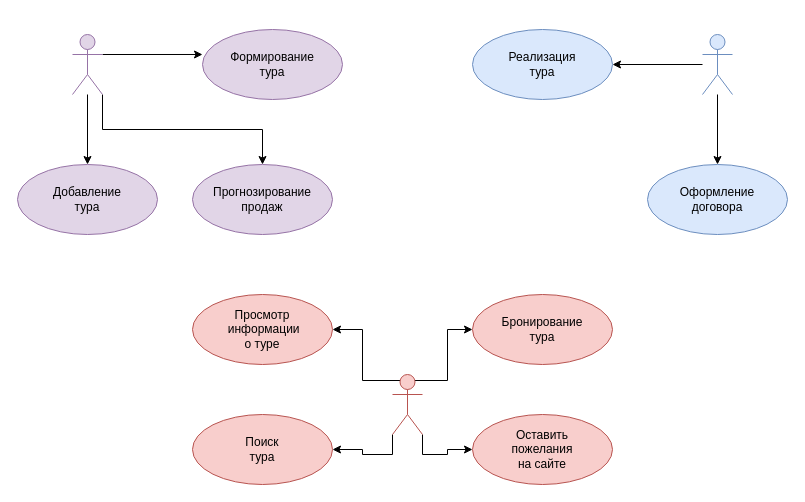
This 805x502 diagram has some shape labels left out. Each missing label, with the centre of its shape:
"Клиент" belongs at point (407, 404).
"Турагент" belongs at point (717, 64).
"Туропеатор" belongs at point (87, 64).
